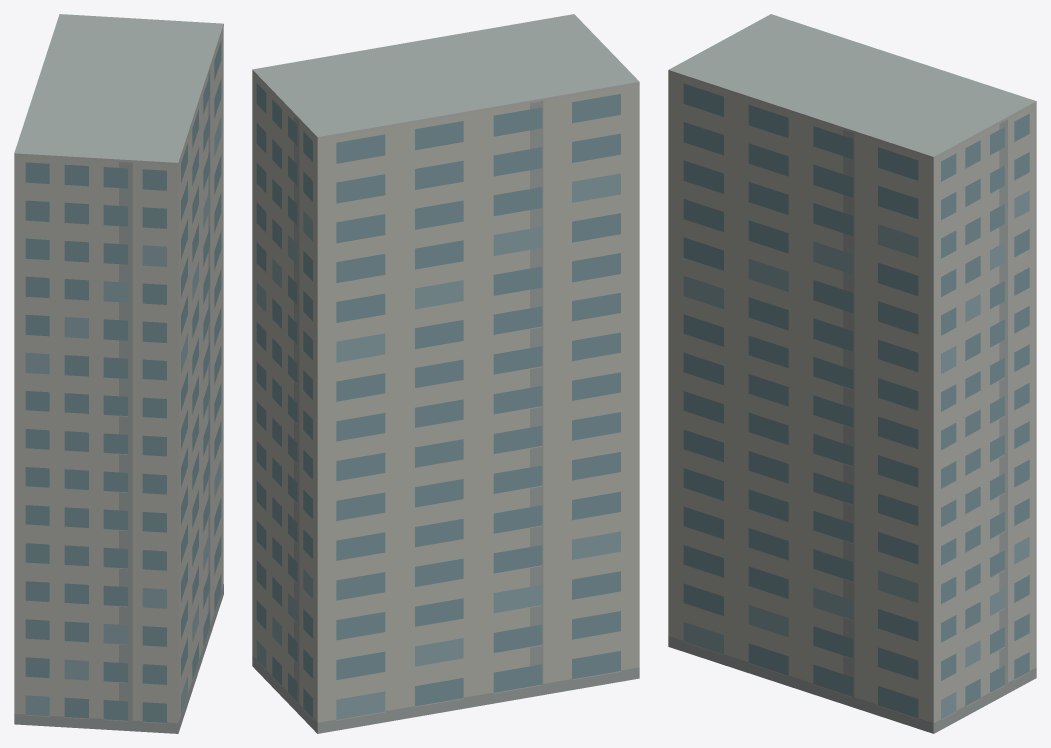
The model's file is residential-4aebb7aa-ef57-40cb-854c-1e9f7e883d56.glb.
3 views of the same model, side by side, from view 1: azimuth 30°, elevation 25°; view 2: azimuth 150°, elevation 25°; view 3: azimuth 270°, elevation 25° (orthographic). The views are drawn at different scales.
Visible parts, largest first — view 1: residential-4aebb7aa-ef57-40cb-854c-1e9f7e883d56.tmp; view 2: residential-4aebb7aa-ef57-40cb-854c-1e9f7e883d56.tmp; view 3: residential-4aebb7aa-ef57-40cb-854c-1e9f7e883d56.tmp.
Boxes of the visible parts, x1,y1,x2,y2 form: residential-4aebb7aa-ef57-40cb-854c-1e9f7e883d56.tmp: [14, 14, 223, 733]; residential-4aebb7aa-ef57-40cb-854c-1e9f7e883d56.tmp: [252, 14, 639, 733]; residential-4aebb7aa-ef57-40cb-854c-1e9f7e883d56.tmp: [668, 14, 1036, 733].
Size of the model in its own units: 29.25 by 55 by 31.83.
